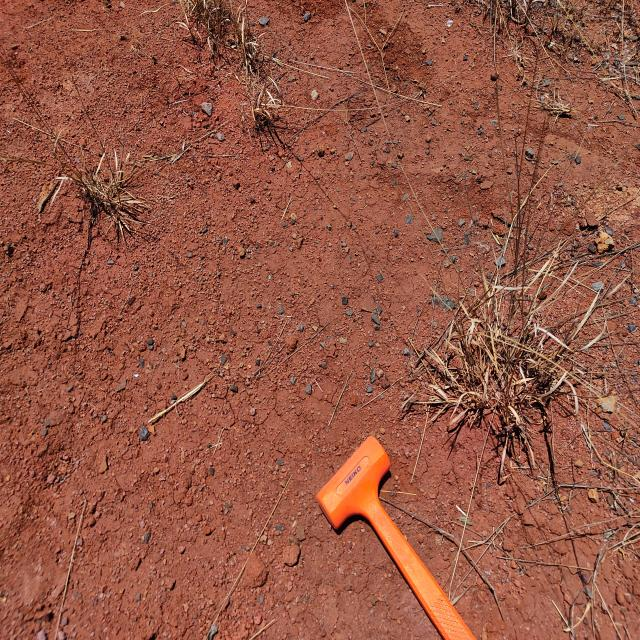Orange_hammer: (316, 434, 476, 639)
